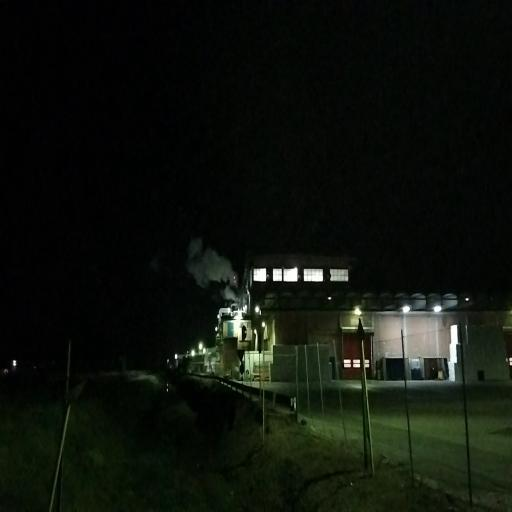leakage: (185, 231, 251, 315)
